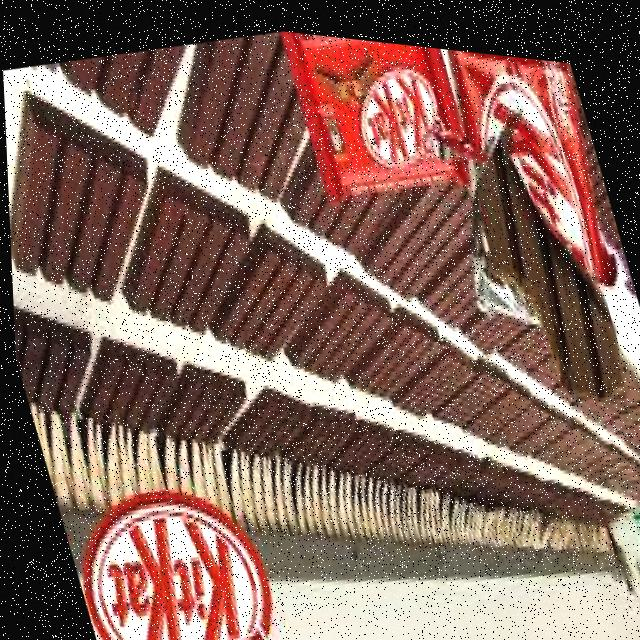kitkat: (278, 24, 477, 208)
